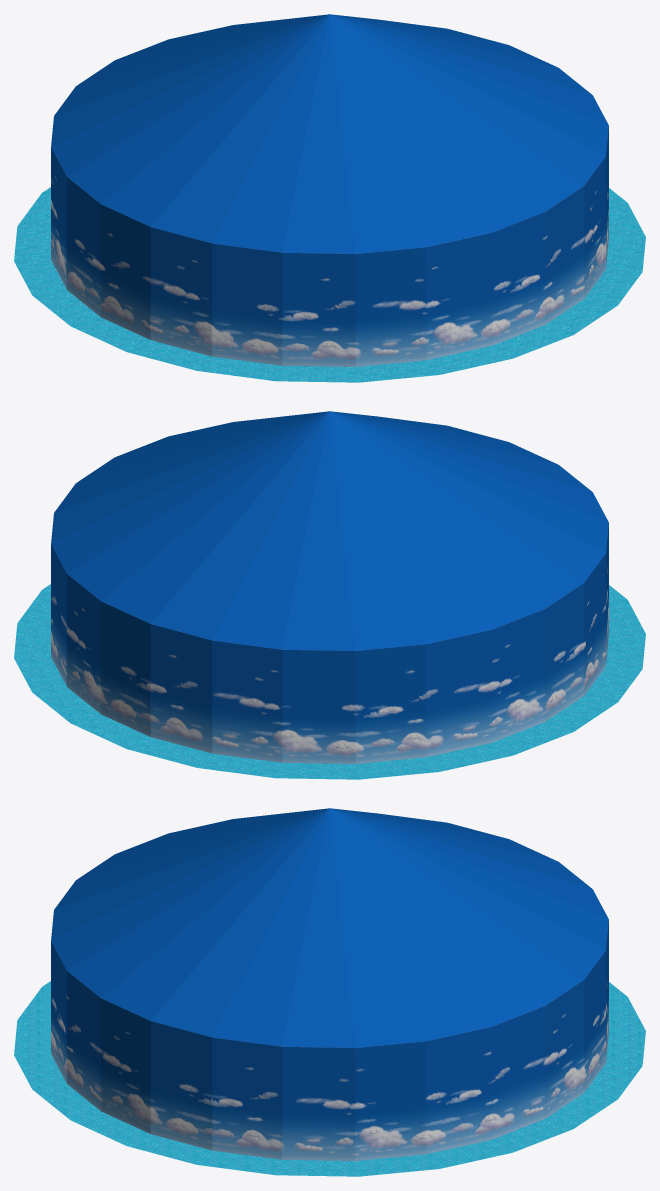
3 views of the same model, one above another, from view 1: azimuth 30°, elevation 25°; view 2: azimuth 150°, elevation 25°; view 3: azimuth 270°, elevation 25° (orthographic).
Visible parts, largest first — view 1: course-GRP-44767-azul2, course-GRP-44767-sky2, course-SKP--Agua_en_movimiento; view 2: course-GRP-44767-azul2, course-GRP-44767-sky2, course-SKP--Agua_en_movimiento; view 3: course-GRP-44767-azul2, course-GRP-44767-sky2, course-SKP--Agua_en_movimiento.
Boxes of the visible parts, x1=… form: course-GRP-44767-azul2: x1=51, y1=14, x2=608, y2=253; course-GRP-44767-sky2: x1=51, y1=127, x2=608, y2=366; course-SKP--Agua_en_movimiento: x1=14, y1=187, x2=645, y2=382; course-GRP-44767-azul2: x1=51, y1=411, x2=608, y2=650; course-GRP-44767-sky2: x1=51, y1=524, x2=608, y2=763; course-SKP--Agua_en_movimiento: x1=14, y1=584, x2=645, y2=779; course-GRP-44767-azul2: x1=51, y1=808, x2=608, y2=1047; course-GRP-44767-sky2: x1=51, y1=921, x2=608, y2=1160; course-SKP--Agua_en_movimiento: x1=14, y1=981, x2=645, y2=1176.
Size of the model in its own units: 677576 by 364556 by 677576.
40 materials, 40 textured.
